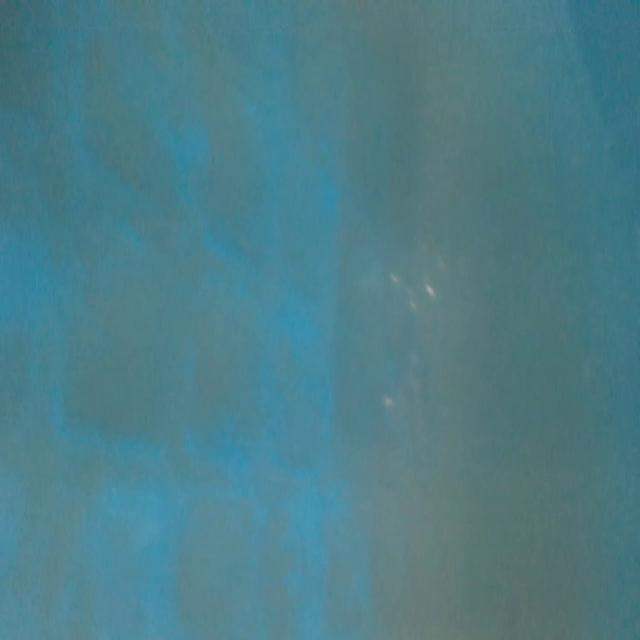plastic bottle: (323, 225, 510, 497)
